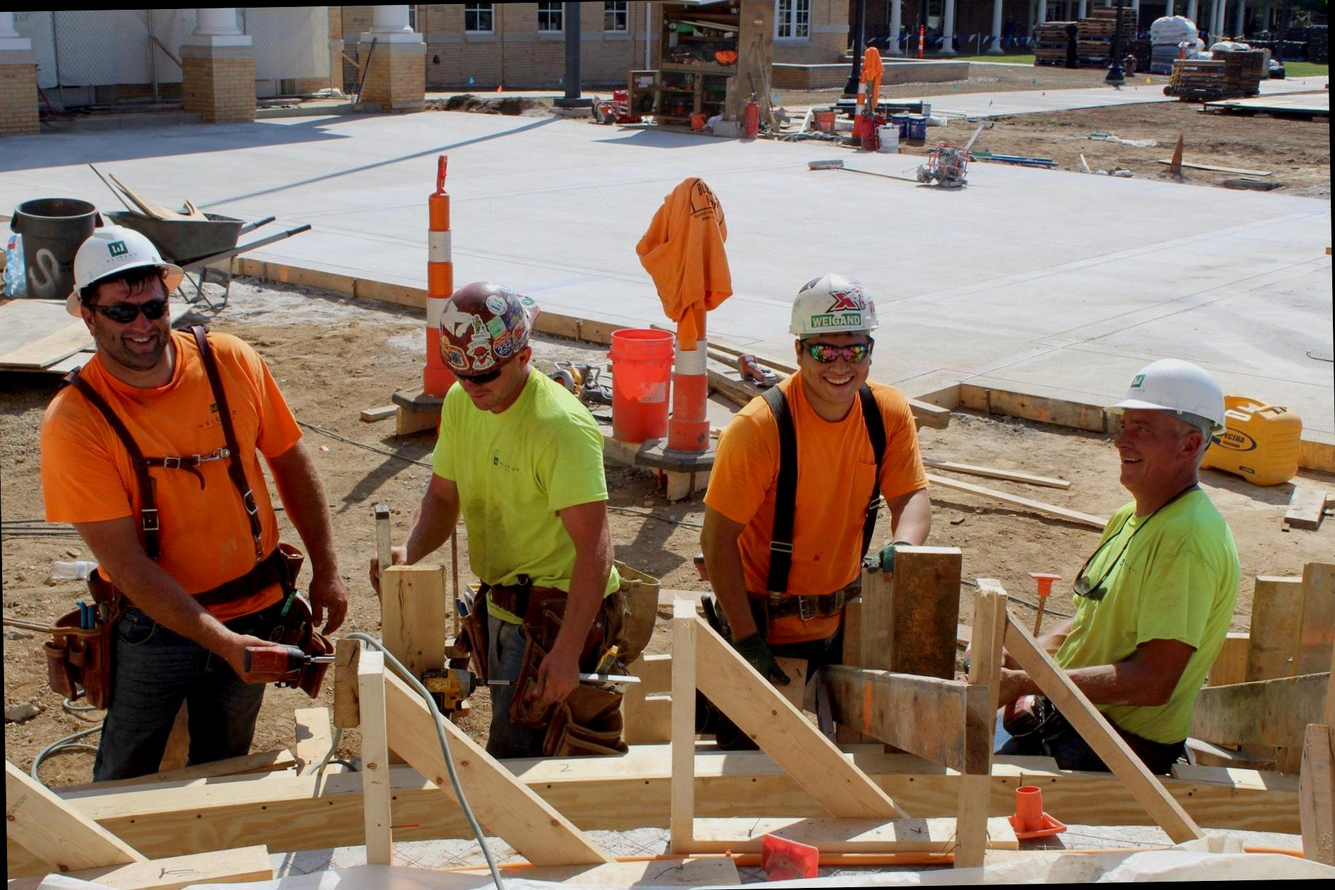helmet: (422, 283, 547, 375), (62, 212, 202, 291), (1108, 352, 1239, 435), (777, 263, 879, 348)
no_vest: (48, 342, 348, 662), (422, 378, 635, 676), (730, 363, 903, 634), (1078, 500, 1243, 743)
person: (32, 172, 366, 748), (402, 265, 653, 732), (720, 249, 921, 697), (1054, 367, 1268, 778)
